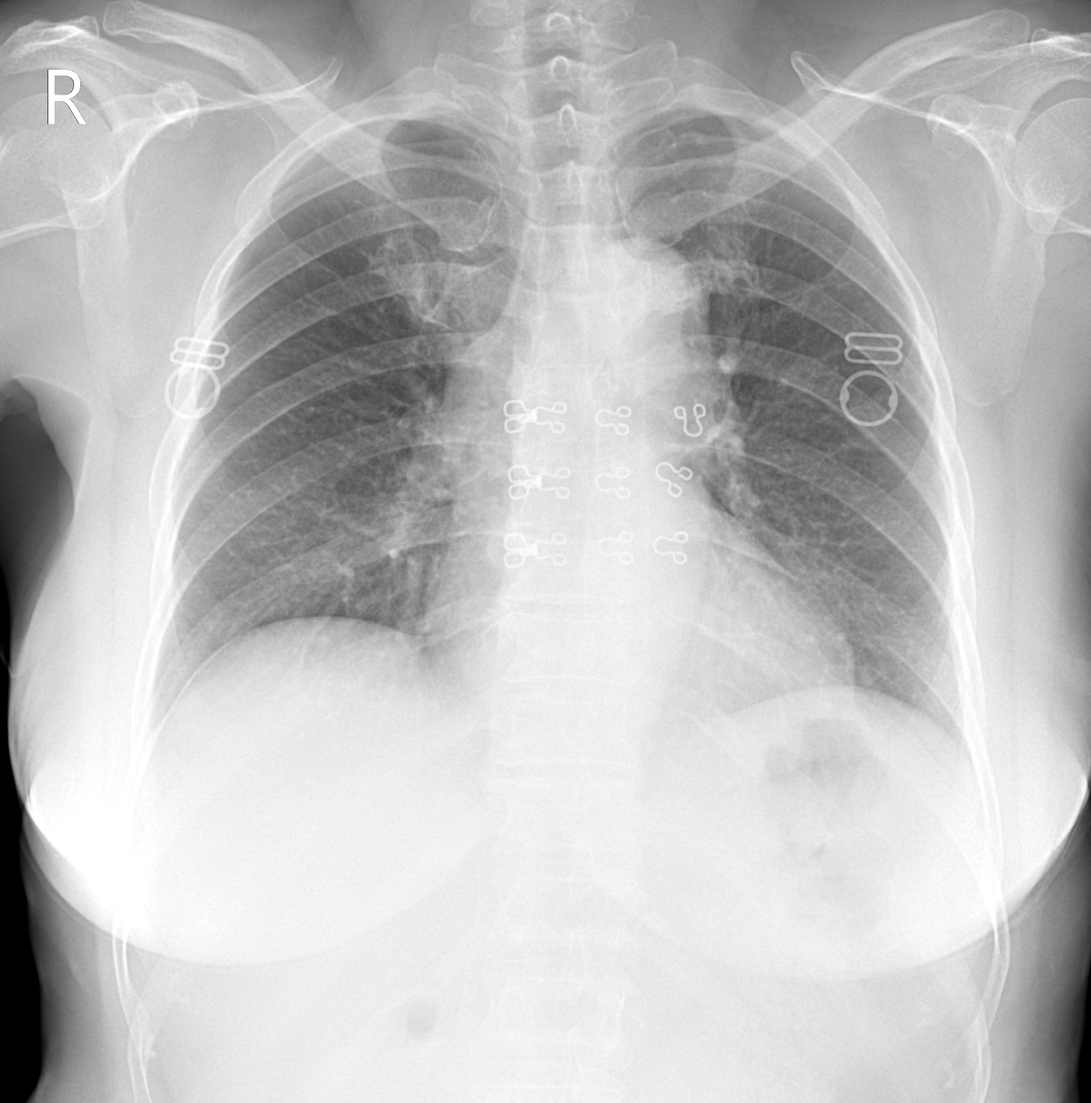Aortic enlargement: (566, 233, 713, 374)
Cardiomegaly: (422, 571, 857, 725)
